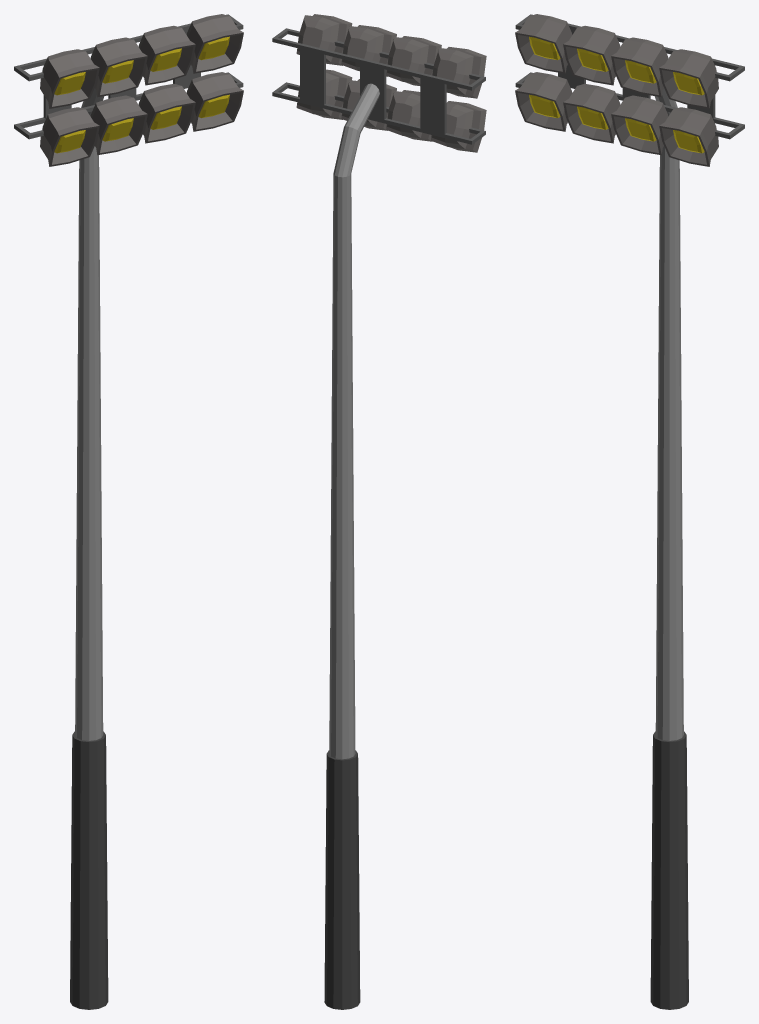
The model's file is Fog Light.fbx.
The picture shows the model from 3 angles, left to right: view 1: azimuth 30°, elevation 25°; view 2: azimuth 150°, elevation 25°; view 3: azimuth 330°, elevation 25°; orthographic projection. The views are drawn at different scales.
Parts seen in each view (by area): view 1: Fog Light; view 2: Fog Light; view 3: Fog Light.
Part boxes in pixels (x1,y1,x2,y2): Fog Light: (14, 14, 243, 1009); Fog Light: (272, 14, 486, 1009); Fog Light: (515, 14, 744, 1009).
Size of the model in its own units: 1160 by 5183 by 680.
